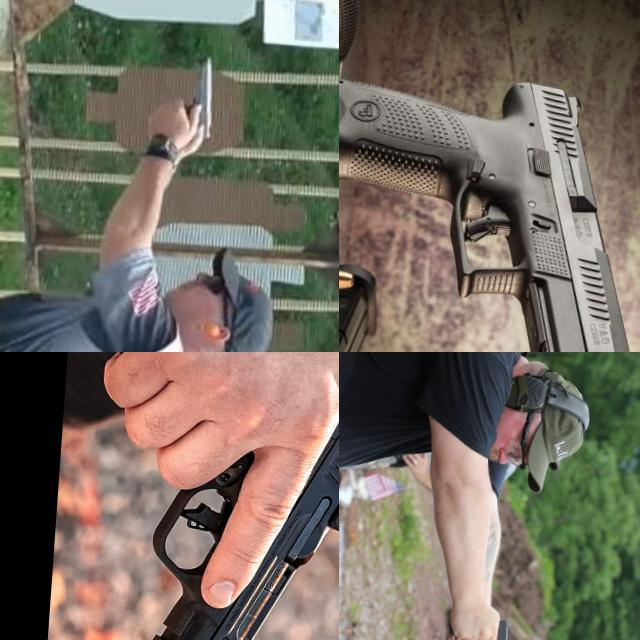handgun: (339, 62, 640, 352), (97, 352, 339, 640), (182, 49, 220, 143), (470, 611, 511, 640)
